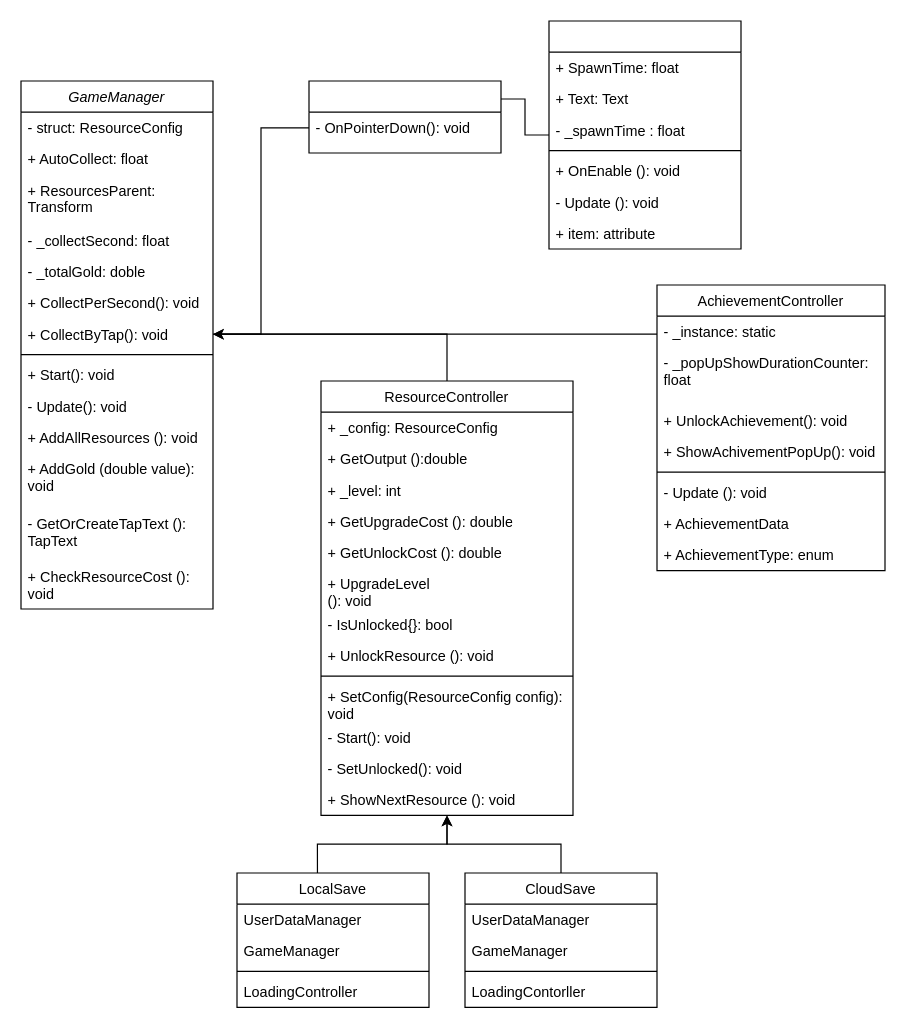
This 906x1032 diagram has some shape labels left out. The box of each missing label's shape, as (x1, y1, x2, y2) in pixels:
TapArea: (308, 80, 501, 153)
TapText: (548, 20, 741, 249)
